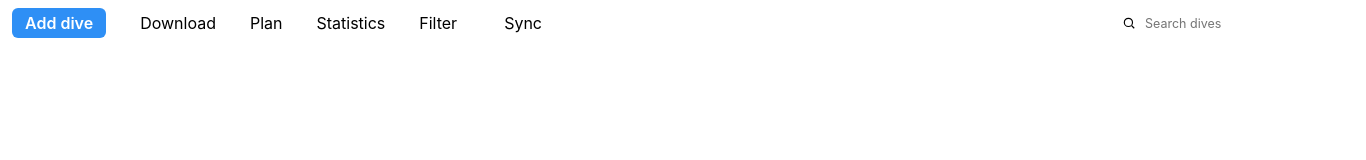
Test case: Toolbar › dismisses error banner when × is clicked
Click the button "Sync": (523, 23) [491, 8, 555, 38]
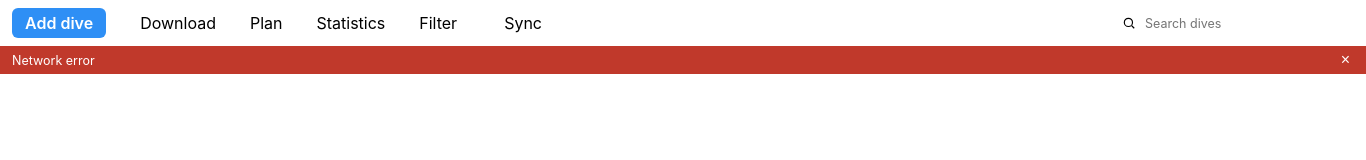
Now the message "Network error ×" is shown, box [0, 46, 1365, 74]
Click the button named "dismiss": (1345, 60) [1337, 52, 1354, 68]
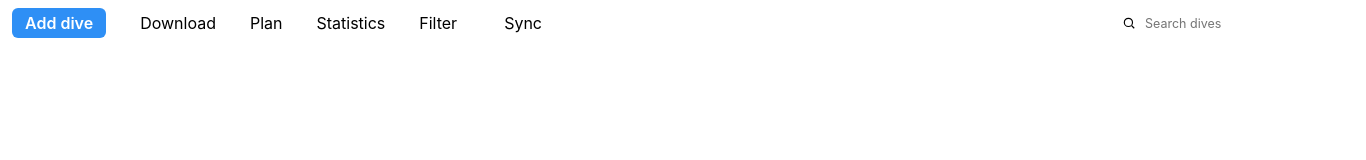
Now the message "Network error ×" is gone
